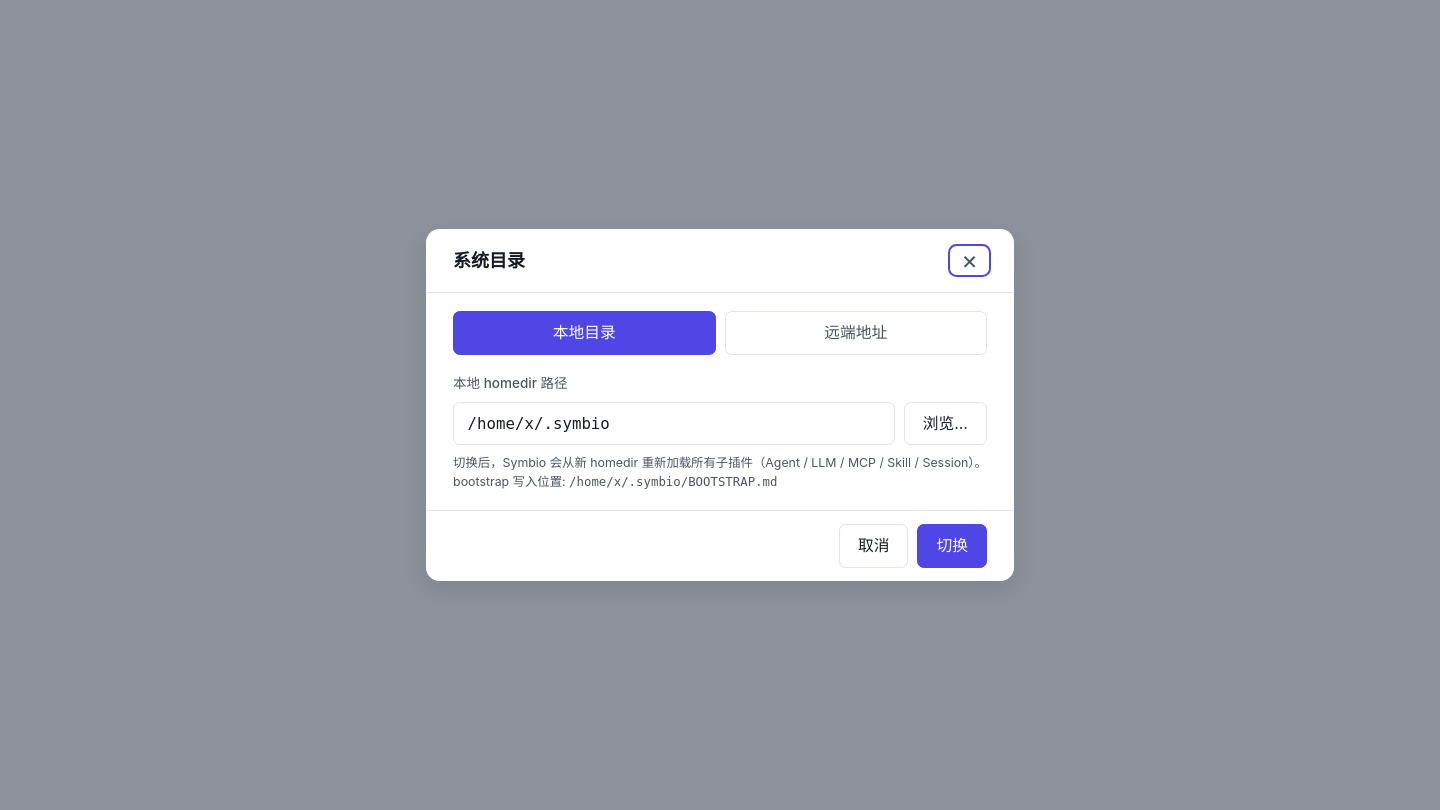
Test: HomedirSwitcher — 提交前校验 › 本地路径为空 → 切换按钮禁用
Clear the field with id "sysdir-input" at point(674, 424), box [453,402,895,445]
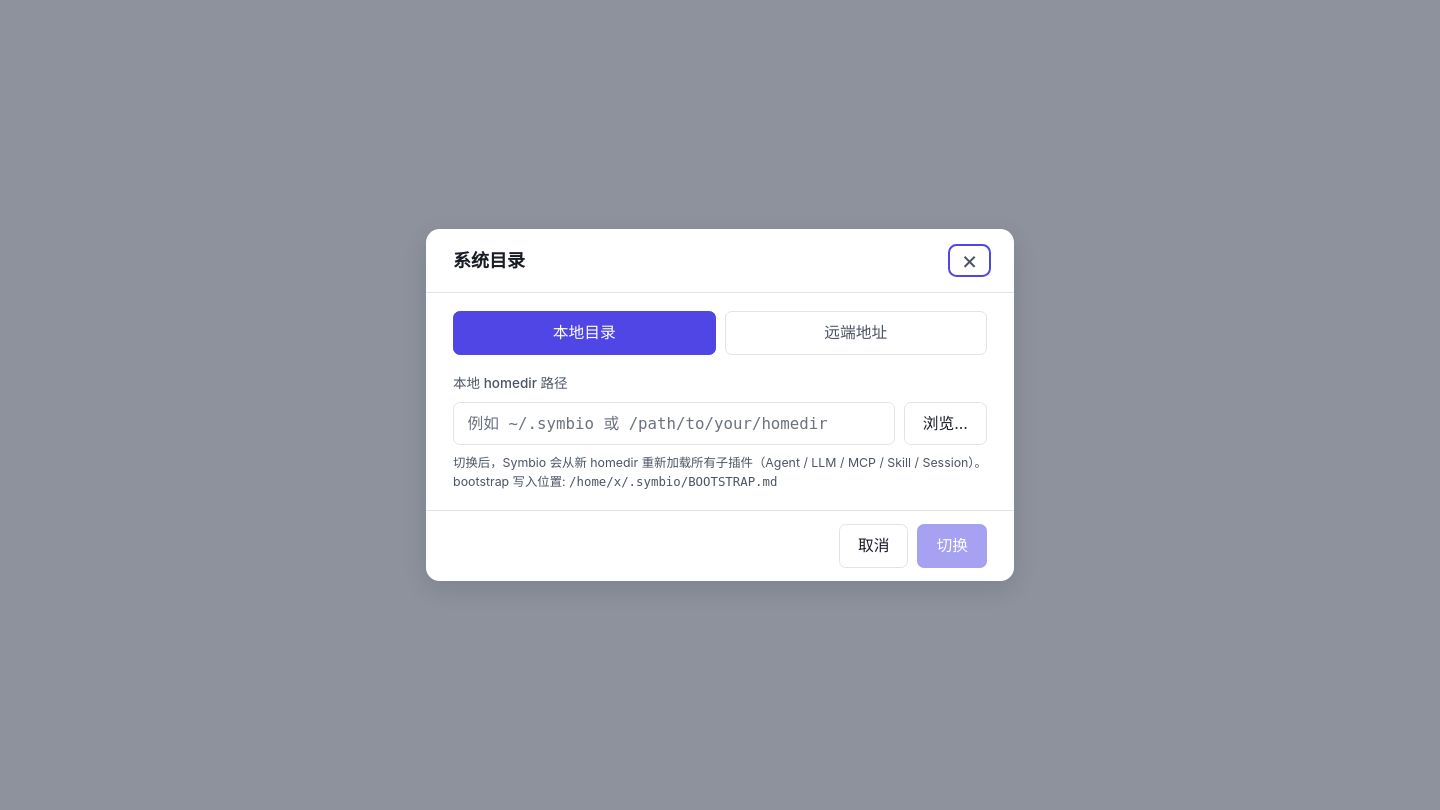
expect the button "切换" is disabled: met, box [917,524,987,568]
